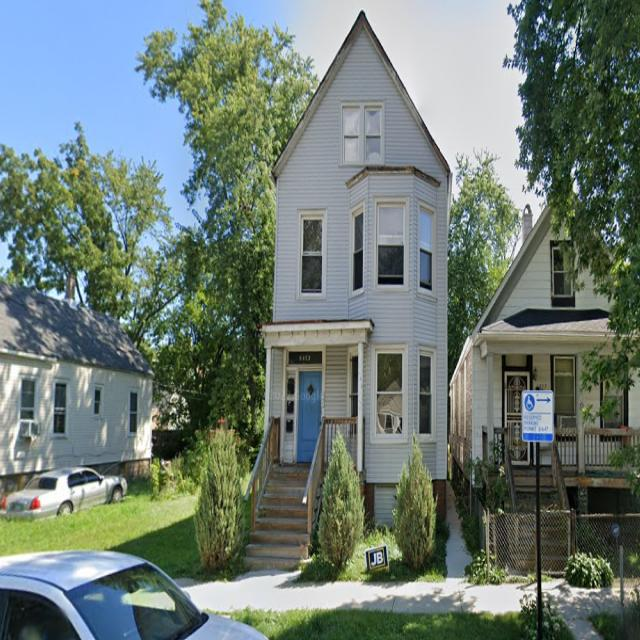House: (239, 10, 453, 572), (450, 194, 640, 568), (0, 278, 155, 504)
